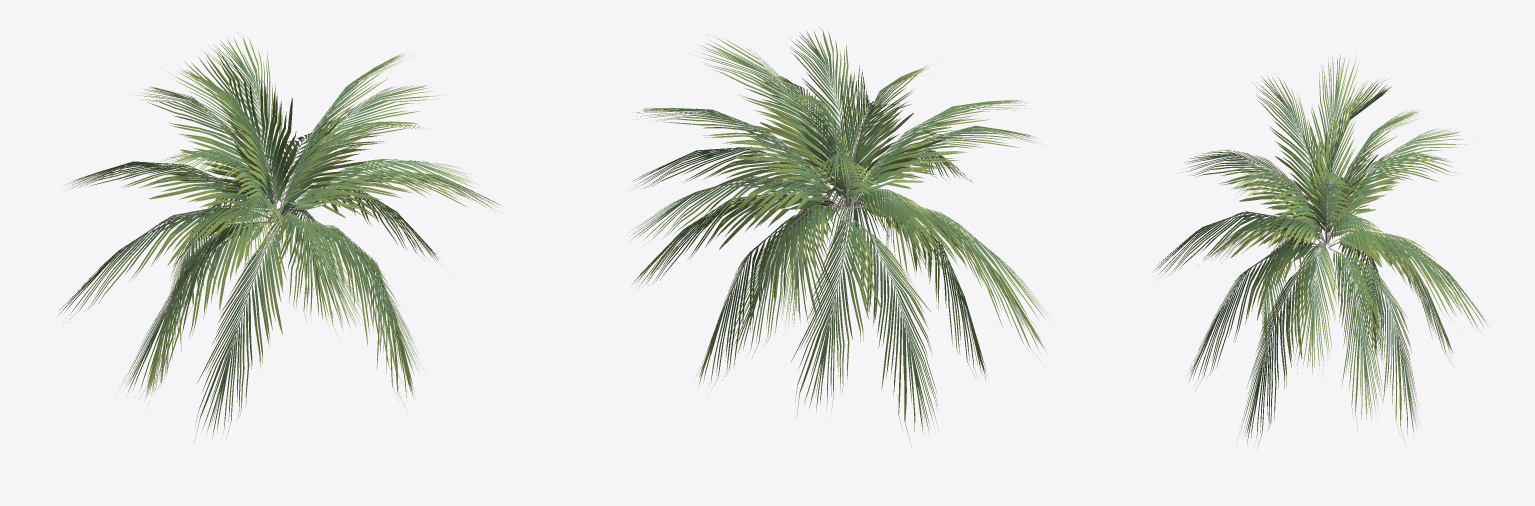
Rendered from m_palm_p2_13_leaf_0_lev2.glb.
The picture shows the model from 3 angles, left to right: view 1: azimuth 30°, elevation 25°; view 2: azimuth 150°, elevation 25°; view 3: azimuth 270°, elevation 25°; orthographic projection. The views are drawn at different scales.
Parts seen in each view (by area): view 1: m_palm_p2_13_leaf_0_lev2; view 2: m_palm_p2_13_leaf_0_lev2; view 3: m_palm_p2_13_leaf_0_lev2.
Part boxes in pixels (<box>): m_palm_p2_13_leaf_0_lev2: <box>58,30,509,441</box>; m_palm_p2_13_leaf_0_lev2: <box>629,27,1049,446</box>; m_palm_p2_13_leaf_0_lev2: <box>1153,48,1491,447</box>.
Bounding box in the file's own units: 4.19 × 3.21 × 3.13.
1 material, 1 textured.
